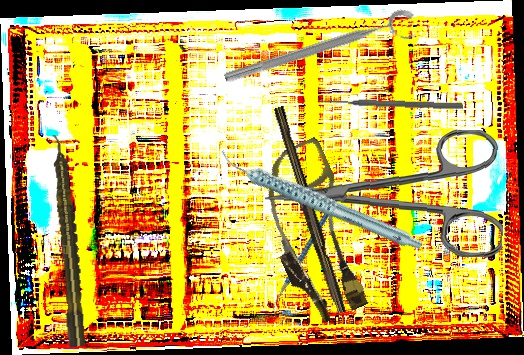Cannula: (240, 136, 388, 329)
Chopper: (242, 197, 369, 317)
Fixation Ring: (221, 6, 422, 99)
Handpiece: (217, 111, 425, 288), (48, 133, 88, 348)
Iris Scissors: (262, 122, 507, 259)
Pusher: (317, 96, 464, 111)
Scalpel Handle: (267, 105, 350, 316)
